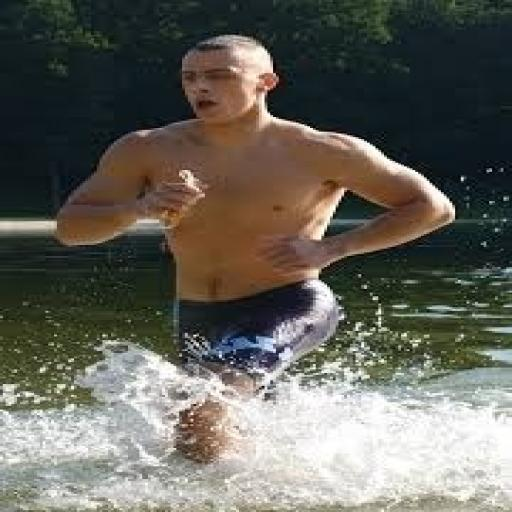running: (51, 33, 461, 468)
